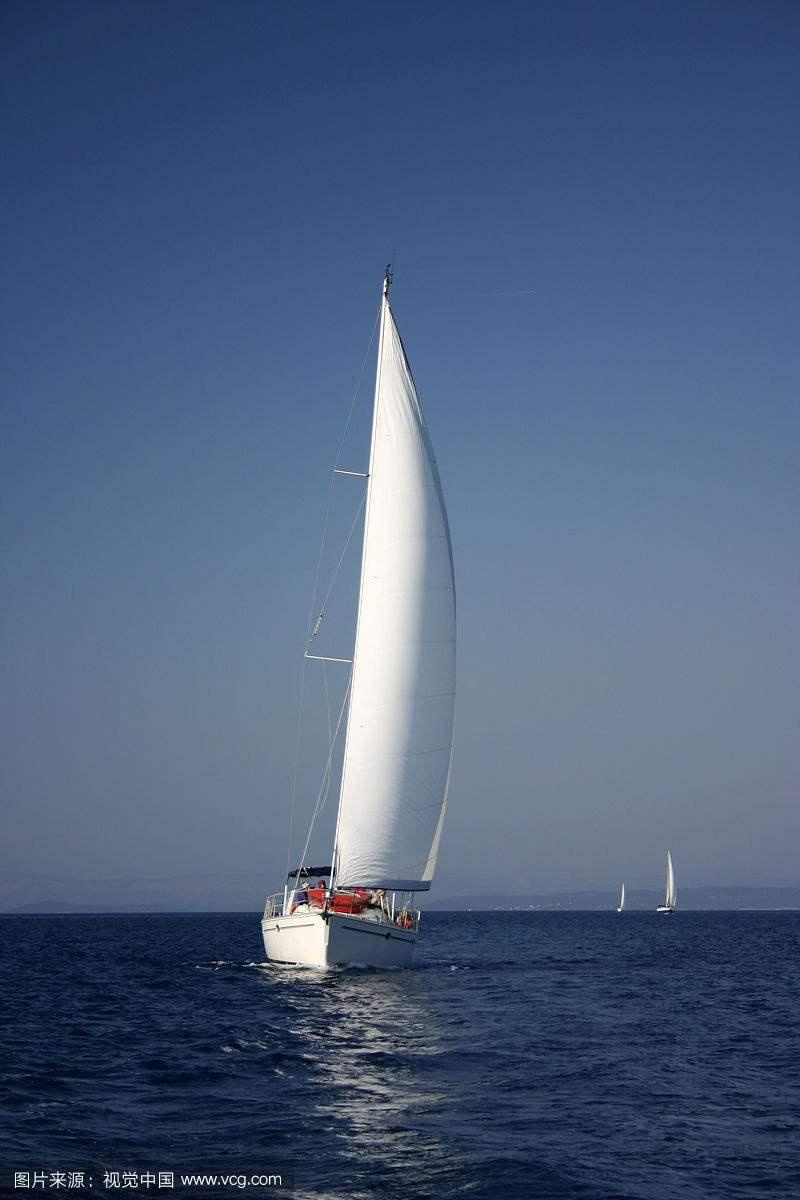fanchuan: (259, 261, 459, 975), (658, 844, 682, 916), (615, 882, 632, 915)
